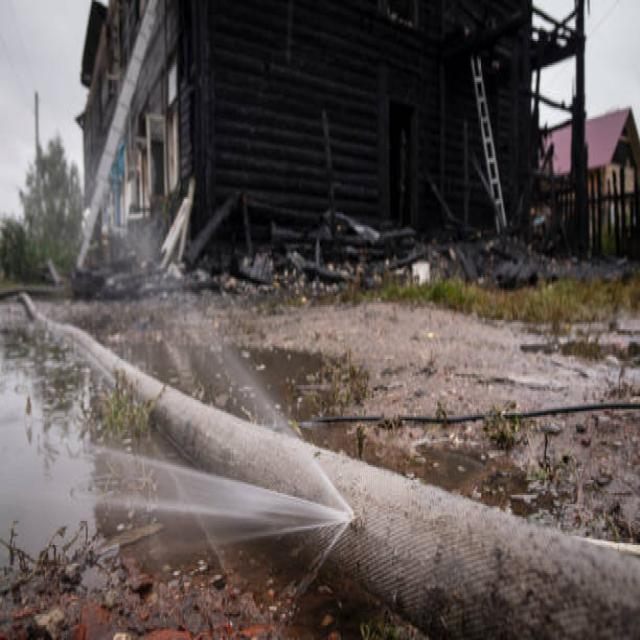pipe burst: (49, 180, 370, 640)
water accumulation: (2, 323, 538, 640)
